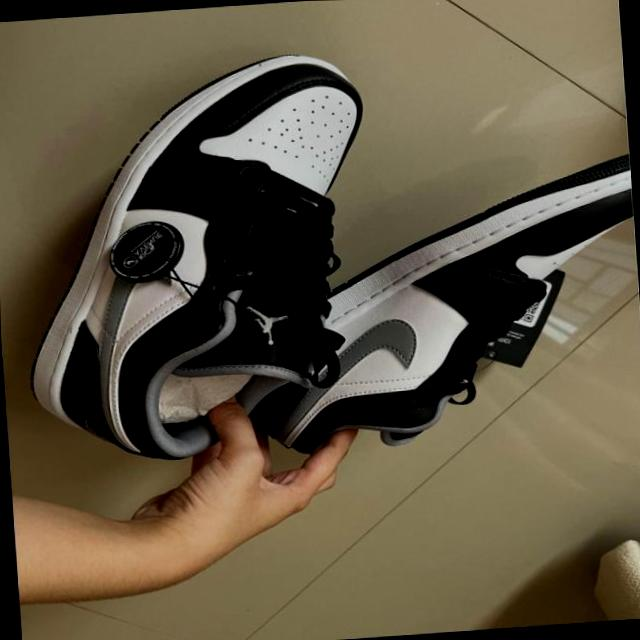nike_original_jordan: (6, 49, 394, 468), (224, 154, 640, 457)
